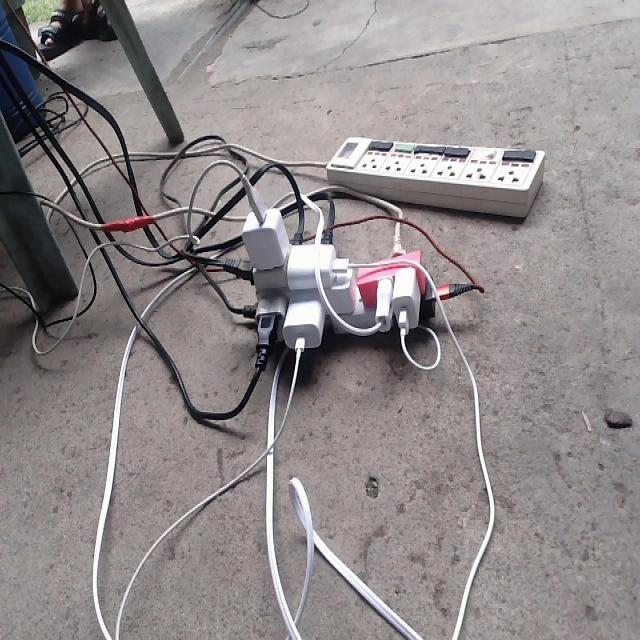-: (224, 198, 442, 350)
